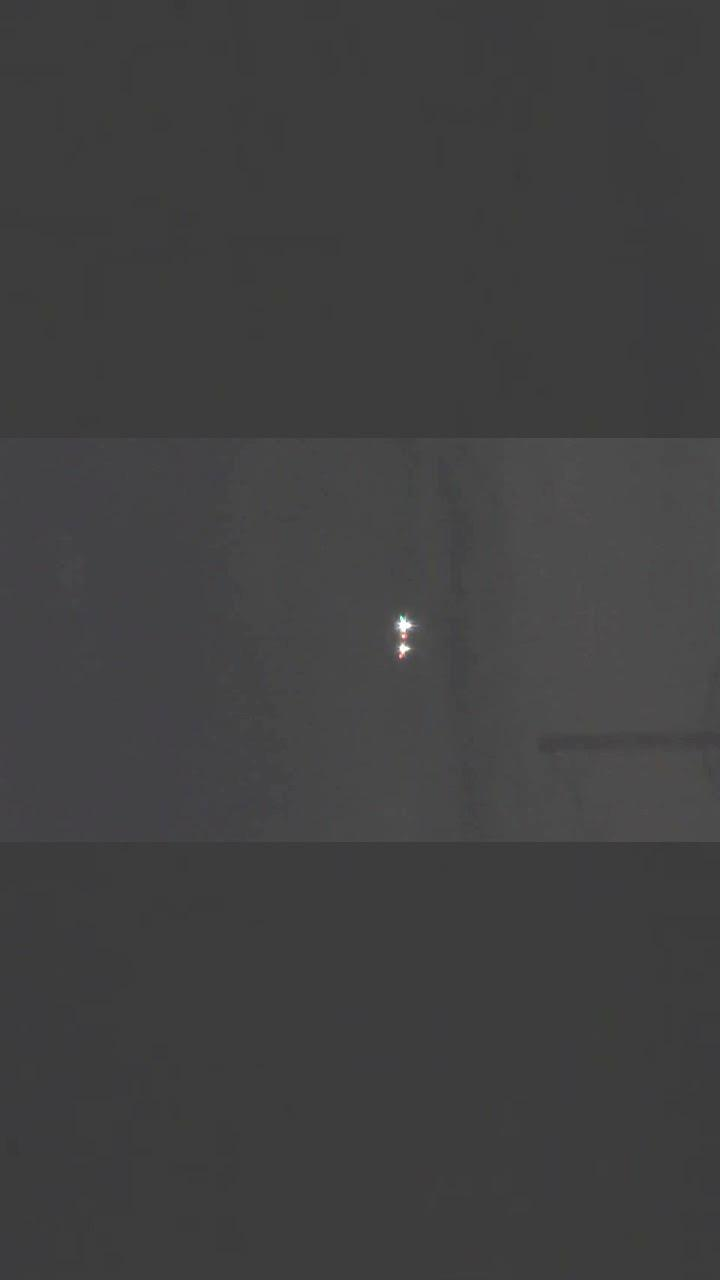Plane: (370, 580, 439, 686)
